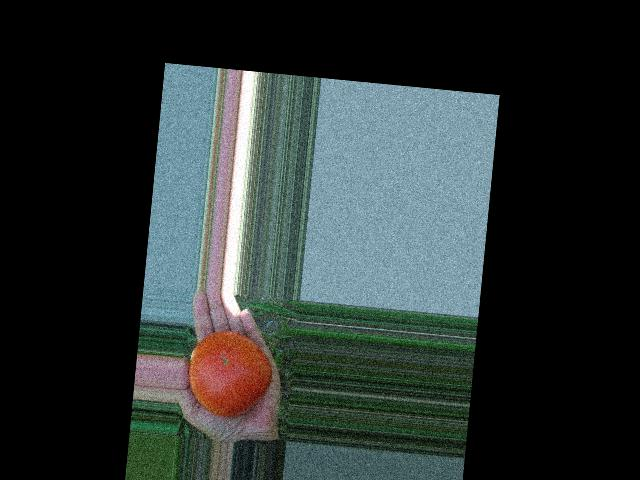tomato: (185, 327, 276, 420)
